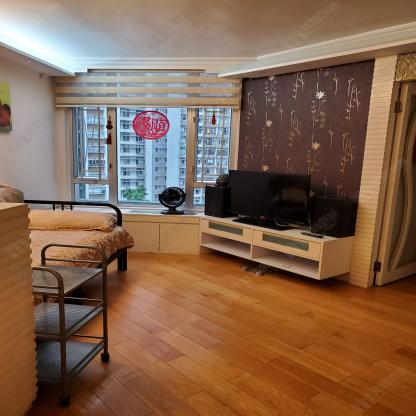TV: (229, 169, 311, 226)
Windowsill: (45, 77, 242, 218)
